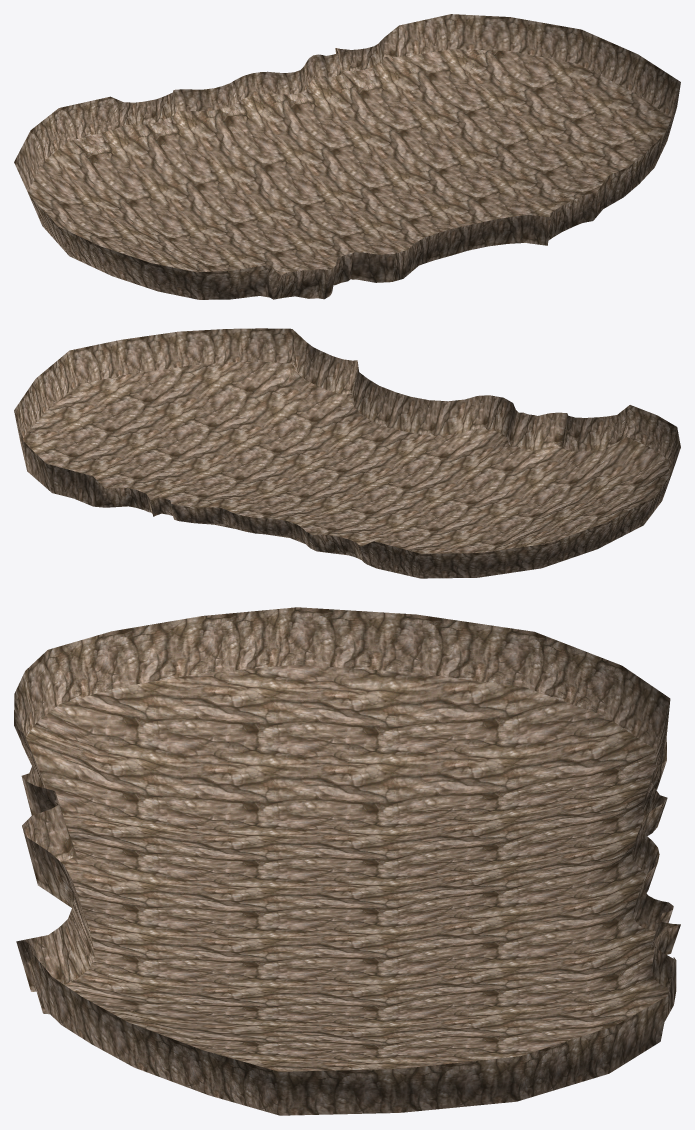
File: OVERHILL_A_01_OH_LAKEBOTTOM_01029.fbx
3 renders of one model, top to bottom at view 1: azimuth 30°, elevation 25°; view 2: azimuth 150°, elevation 25°; view 3: azimuth 270°, elevation 25°, orthographic. The views are drawn at different scales.
Parts seen in each view (by area): view 1: OVERHILL_A_01_OH_LAKEBOTTOM_01029; view 2: OVERHILL_A_01_OH_LAKEBOTTOM_01029; view 3: OVERHILL_A_01_OH_LAKEBOTTOM_01029.
Part boxes in pixels (x1,y1,x2,y2): OVERHILL_A_01_OH_LAKEBOTTOM_01029: (14, 14, 680, 299); OVERHILL_A_01_OH_LAKEBOTTOM_01029: (14, 328, 680, 578); OVERHILL_A_01_OH_LAKEBOTTOM_01029: (14, 607, 680, 1115).
Size of the model in its own units: 911360 by 96885 by 555801.
1 material, 1 textured.
